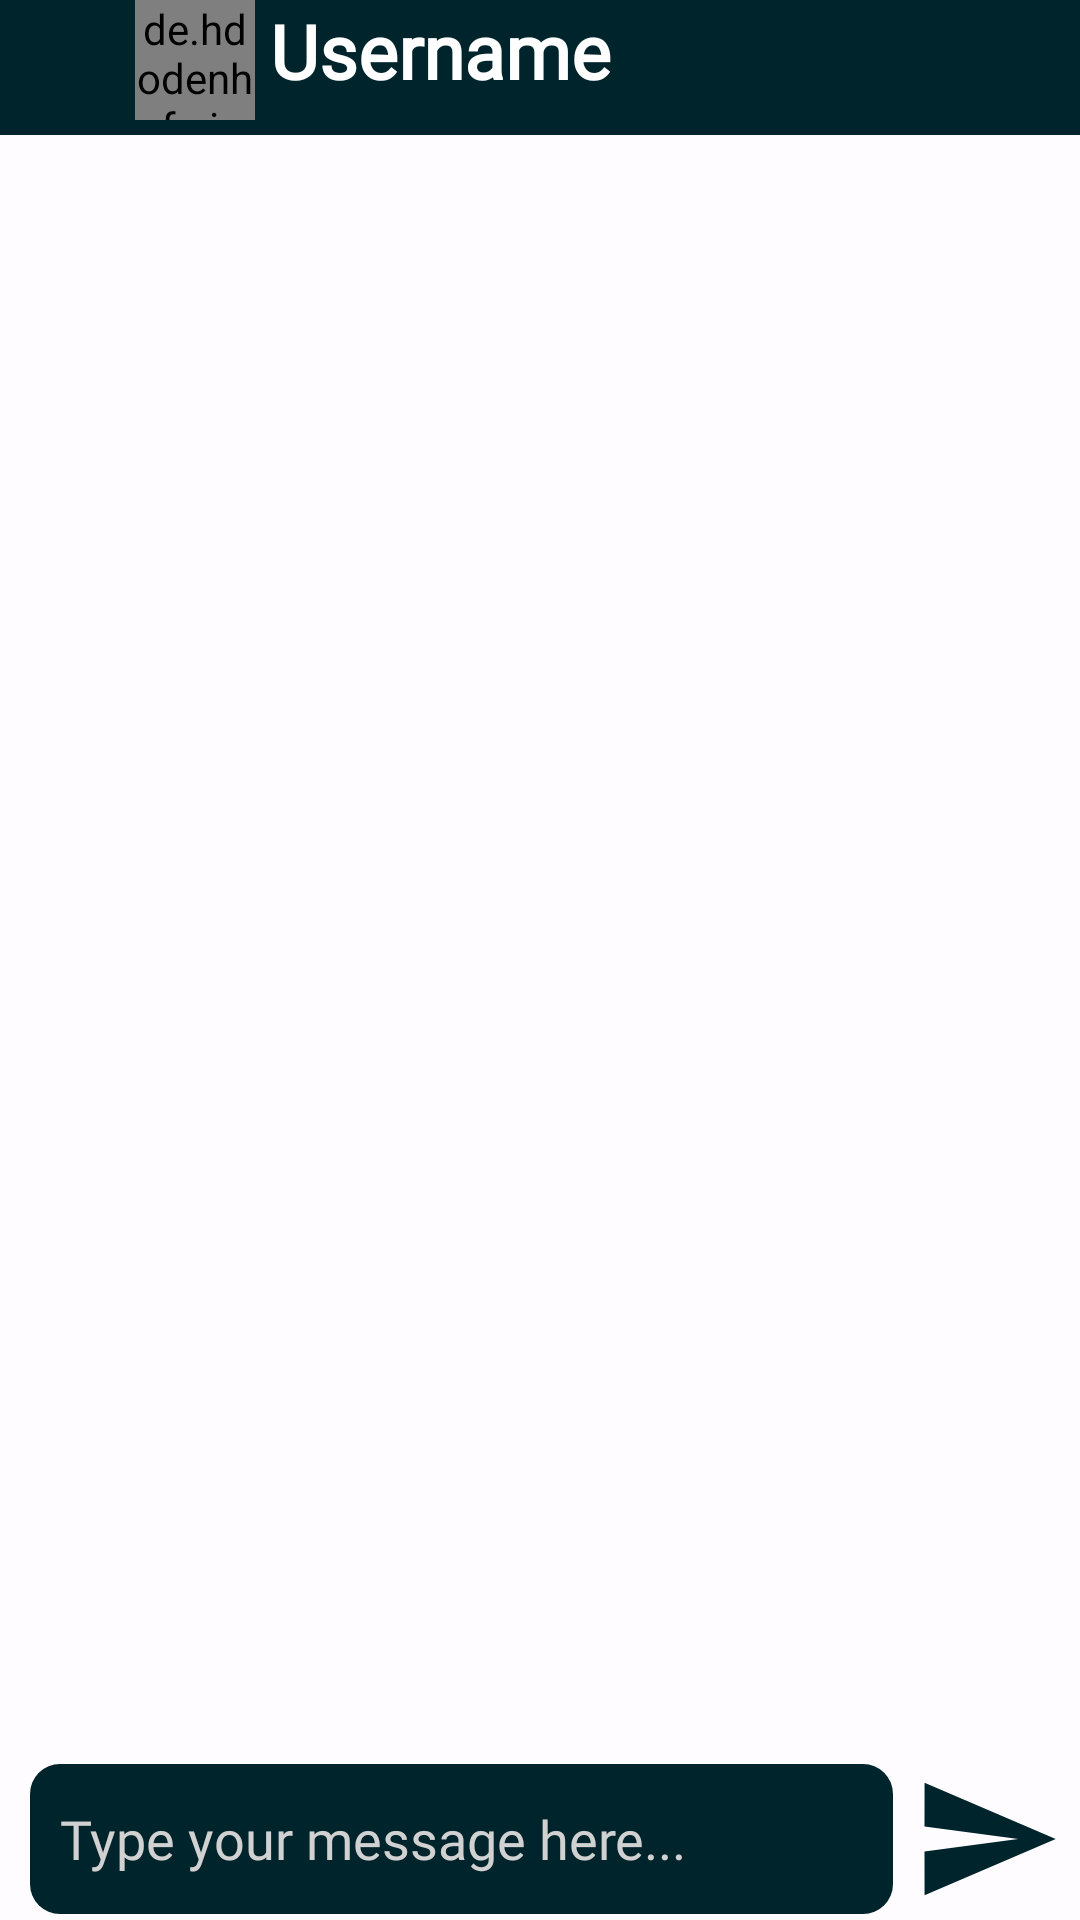

Icon click points for this 1080×1920 phone screenshot, format point (x, y):
send: point (990, 1839)
